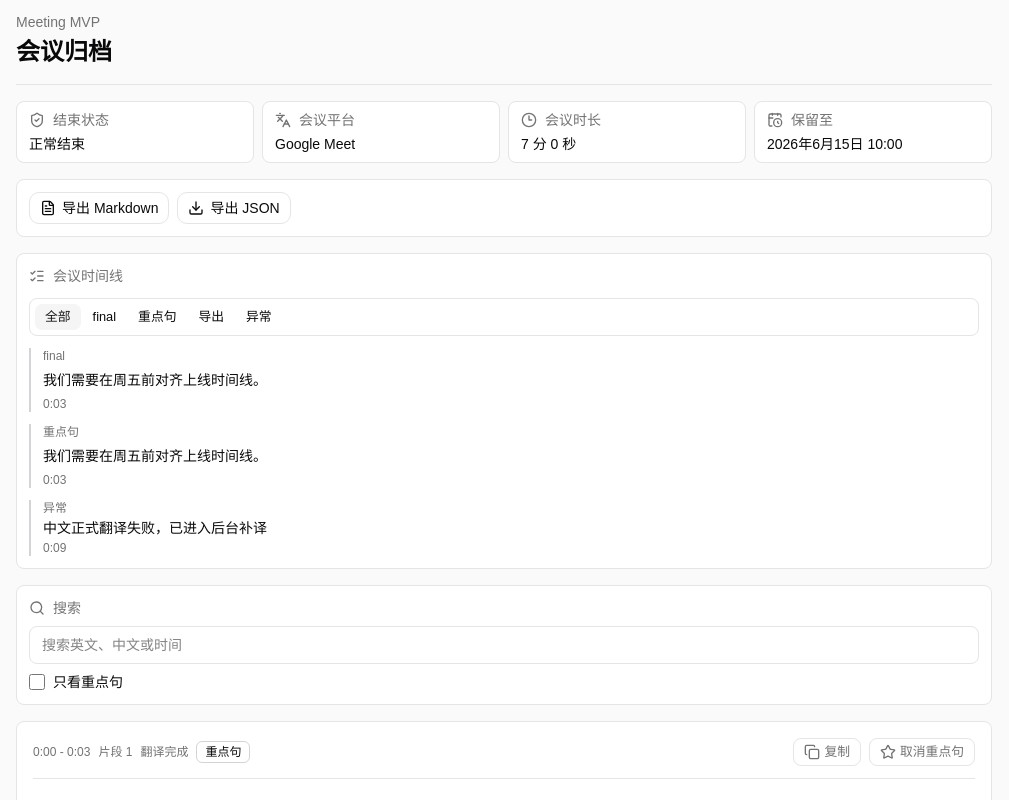
ArchivePage › renders a no results state and records debounced search metadata only
In the field named "搜索归档片段": (504, 645) [29, 626, 979, 664], type "missing phrase"
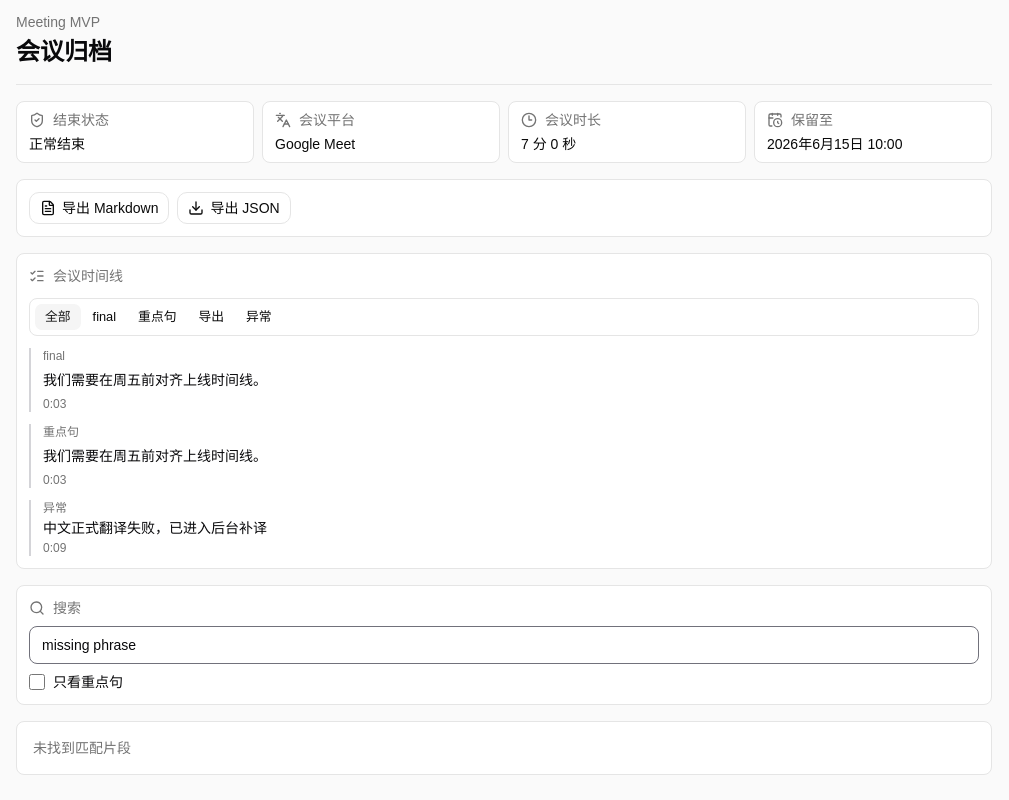
Check: the text "未找到匹配片段" is shown, box [16, 721, 992, 775]
